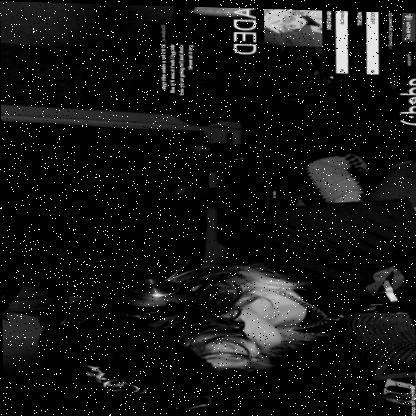streamer: (1, 184, 416, 416)
